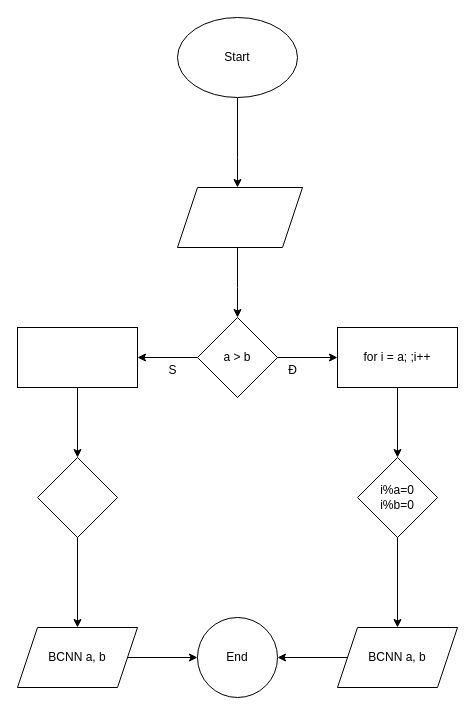
Image size: 475x715. Some labels were removed from this diagram. Each missing label, with the centre of its shape:
"for i = b; ;i++" belongs at (x=77, y=357).
"i%a =0 i%b = 0" belongs at (x=77, y=497).
"Nhập vào 2 số a, b" belongs at (x=239, y=217).
